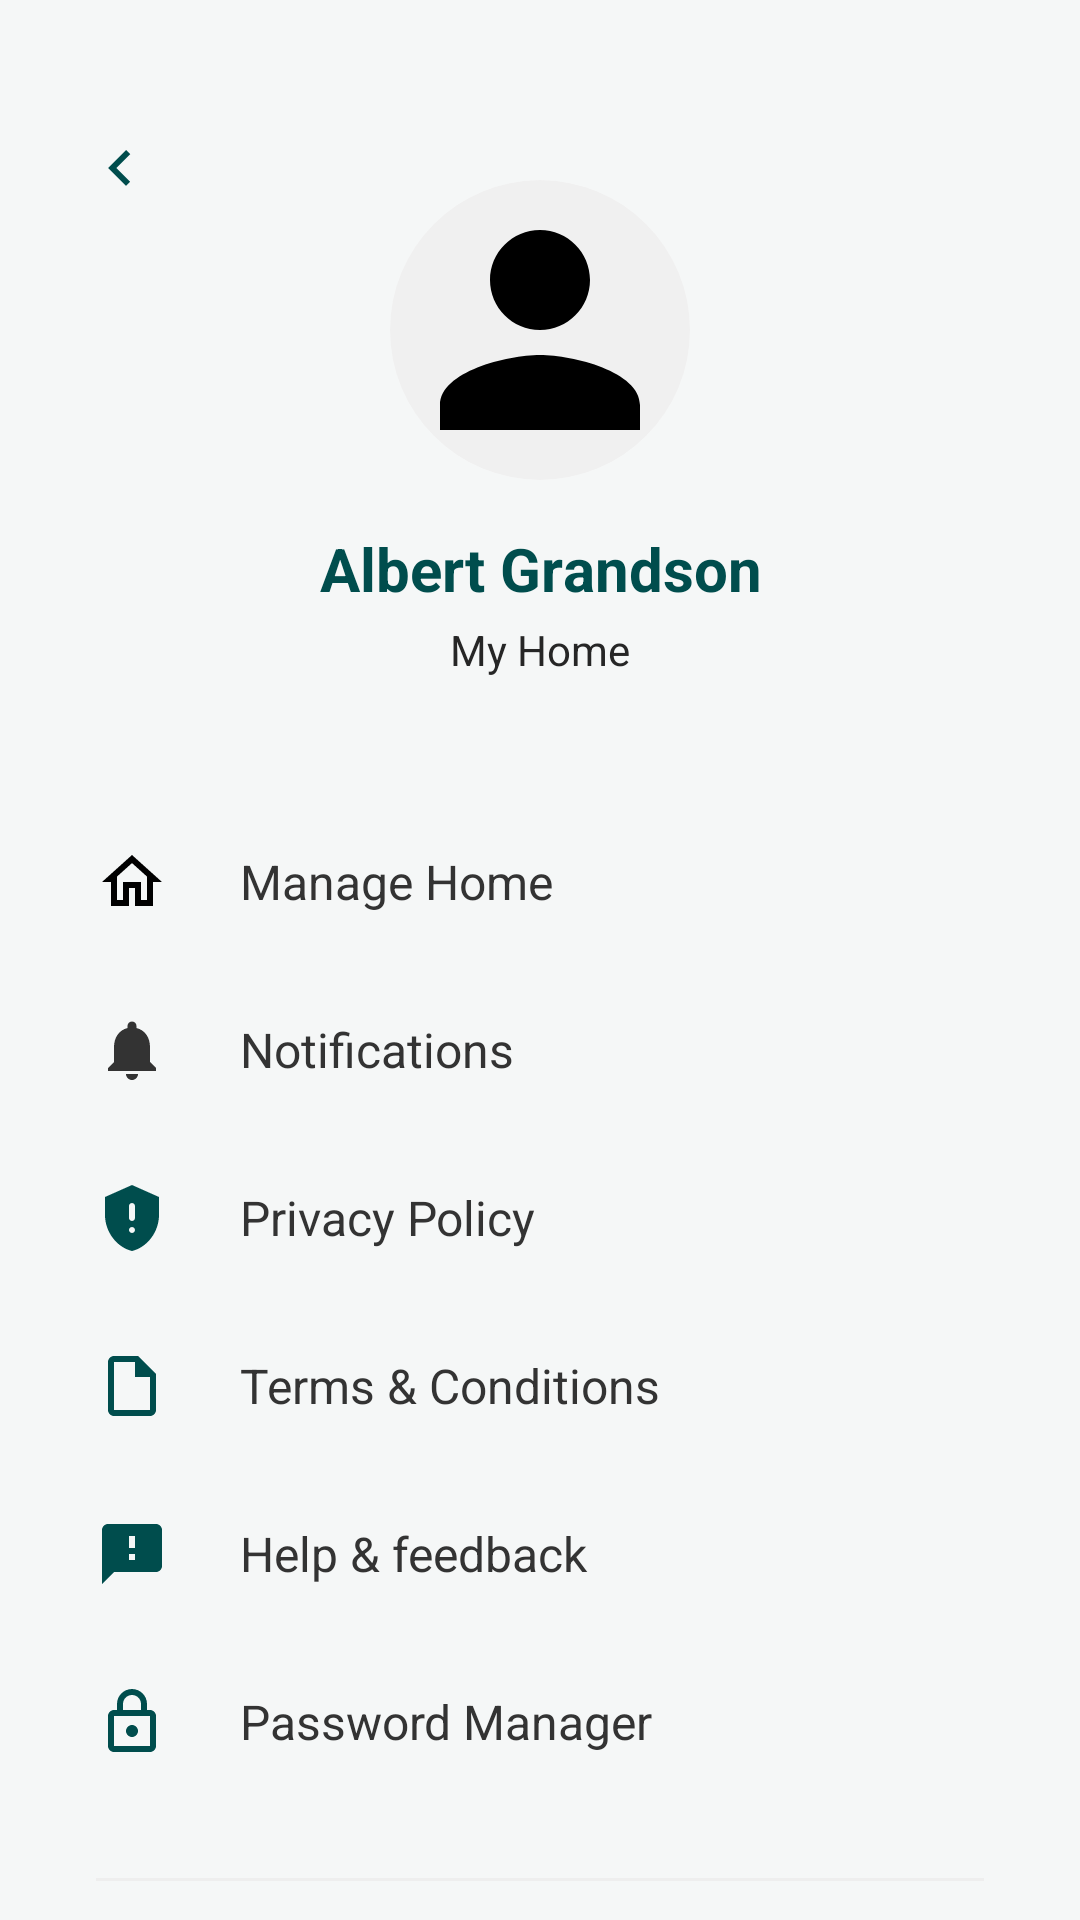

Icon bounding boxes for this 1080×1920 phone screenshot, format bbox(x1, y1, x2, y2):
arrow back: bbox(108, 150, 130, 186)
profile: bbox(440, 230, 640, 430)
shield privacy: bbox(105, 1185, 159, 1251)
